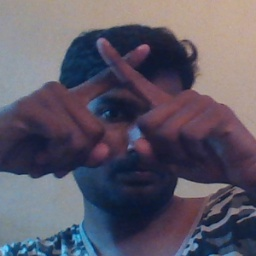X: (54, 34, 187, 151)
